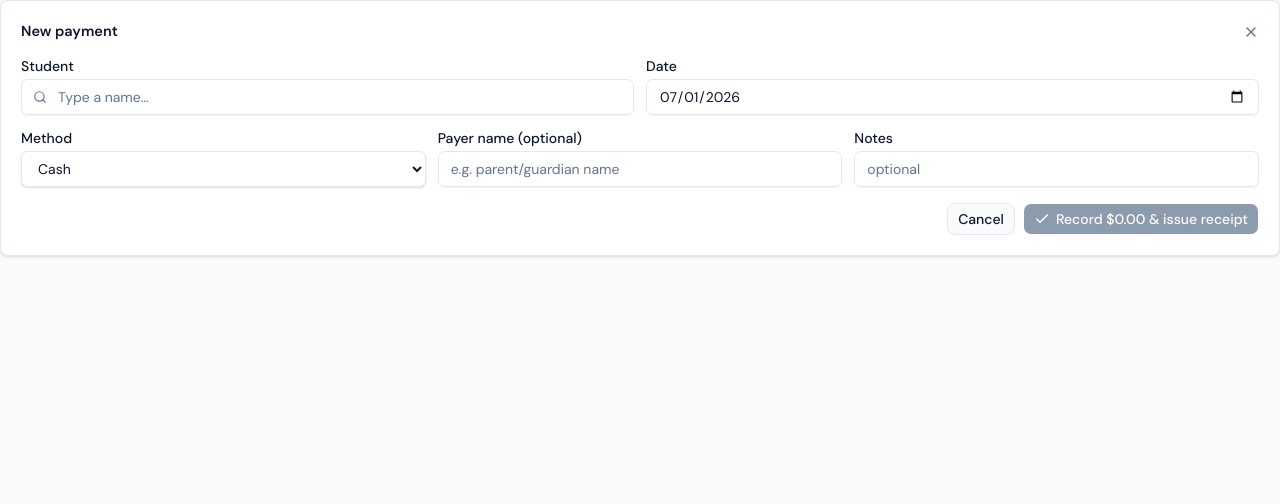
Test: NewPaymentForm — student picker › picking a student fills the search input with name + class
In the field labelled "Student": (328, 97) [21,79,634,115], type "Tendai"
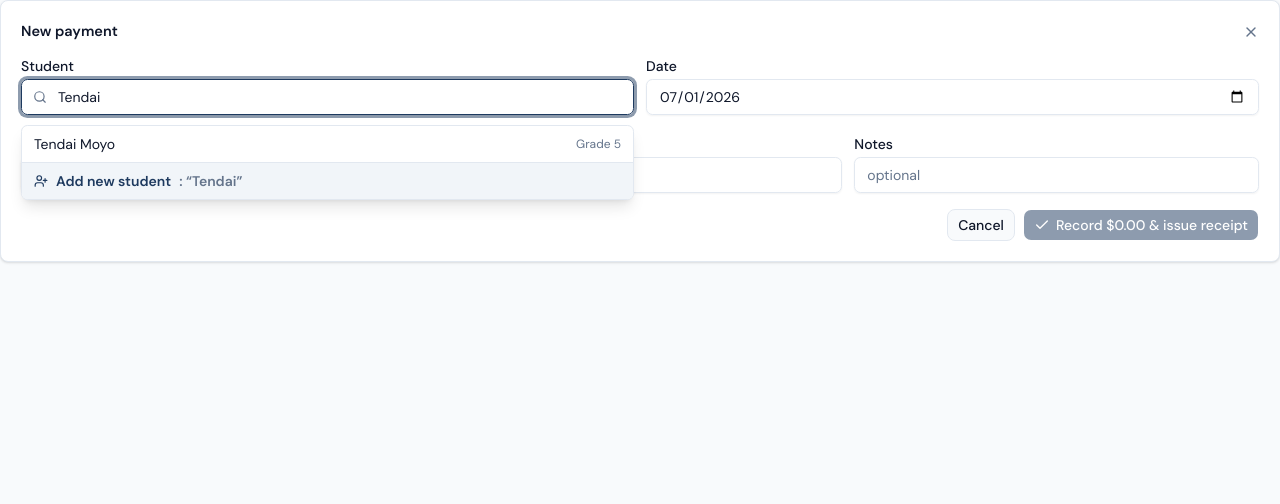
Click the button "Tendai Moyo Grade 5": (75, 144) [22,126,633,162]
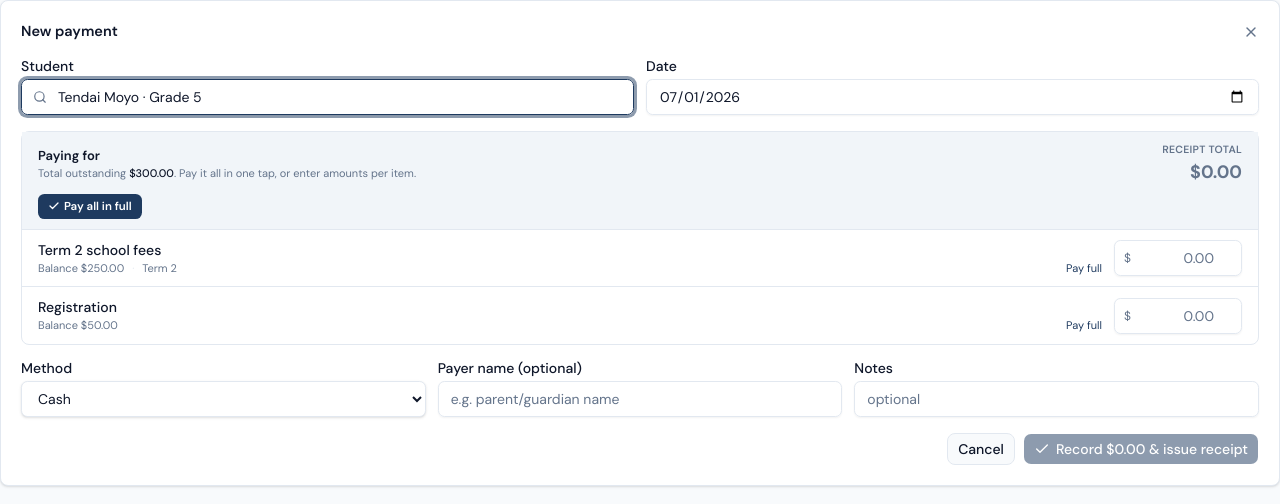
Check: the field labelled "Student" holds "Tendai Moyo · Grade 5", box [21,79,634,115]
